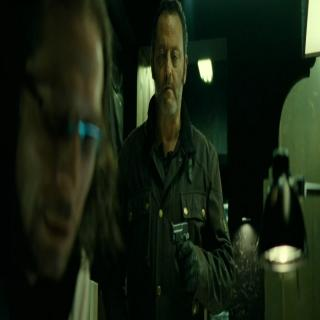gun: (168, 220, 206, 287)
